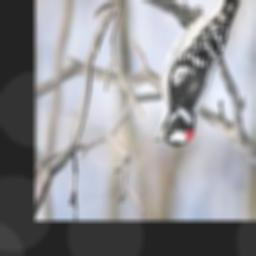Woodpecker: (151, 0, 248, 147)
